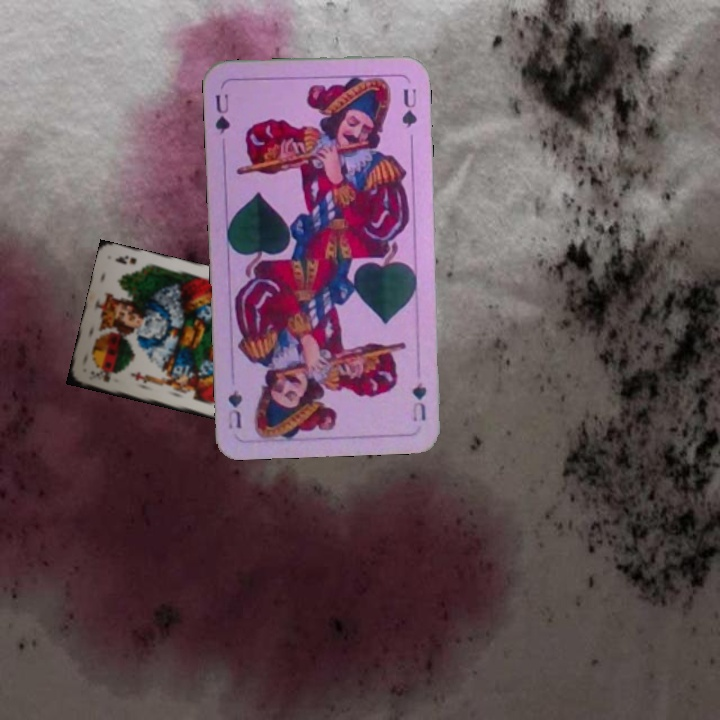GU: (211, 90, 233, 138), (408, 378, 429, 424)
SK: (86, 367, 112, 385)
